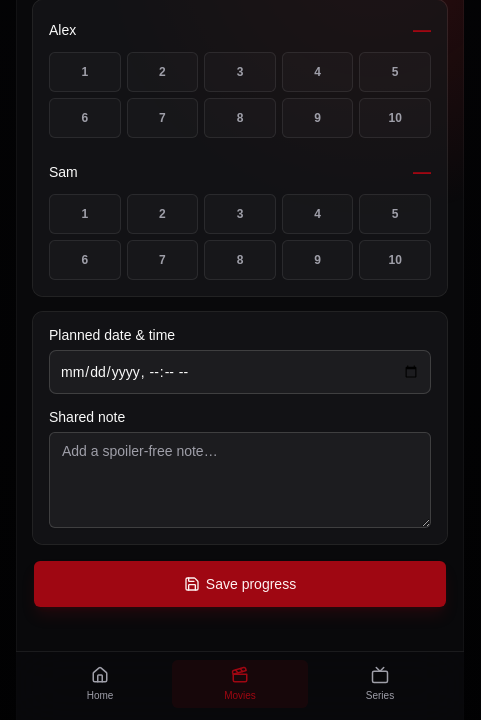
Test case: save success feedback › celebrates an explicit save the server accepted
(page scrolled)
Click the button "Save progress": (240, 584) [33,560,447,608]
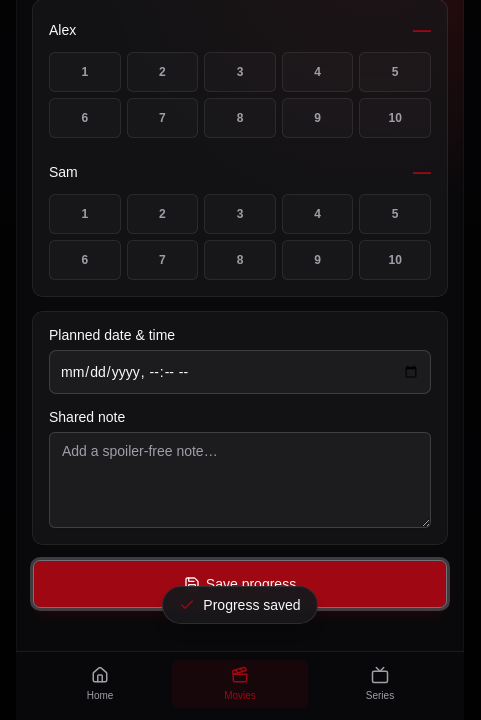
Expected: the message reads "Progress saved", [203,597,301,613]
